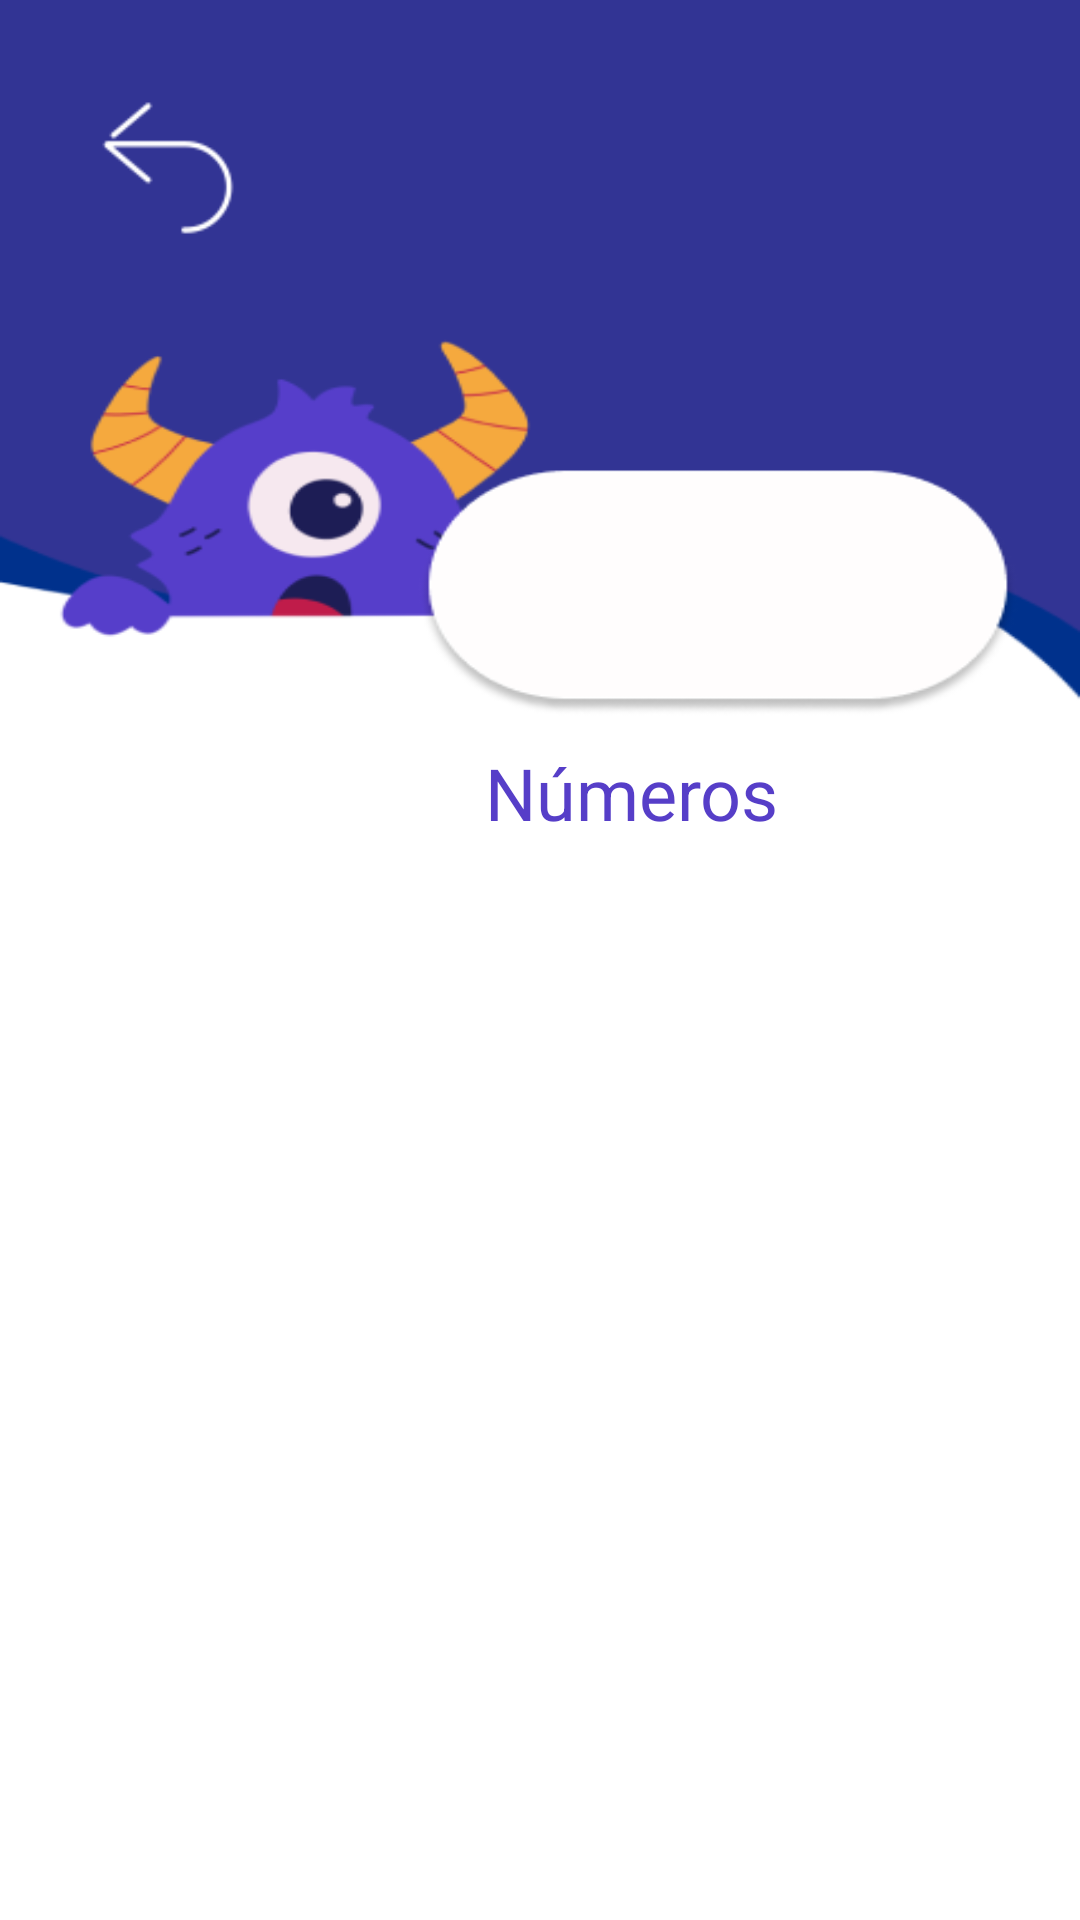

Named icons in this screenshot (1080 x 1920) and their centers, point (x, y):
Retroceder: point (168, 168)
